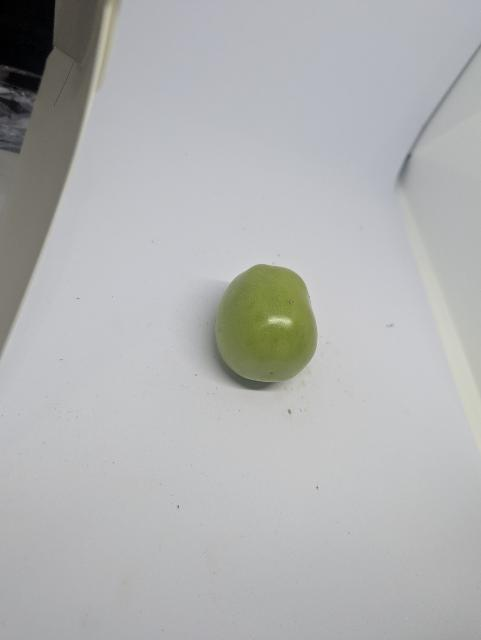green: (209, 245, 331, 416)
